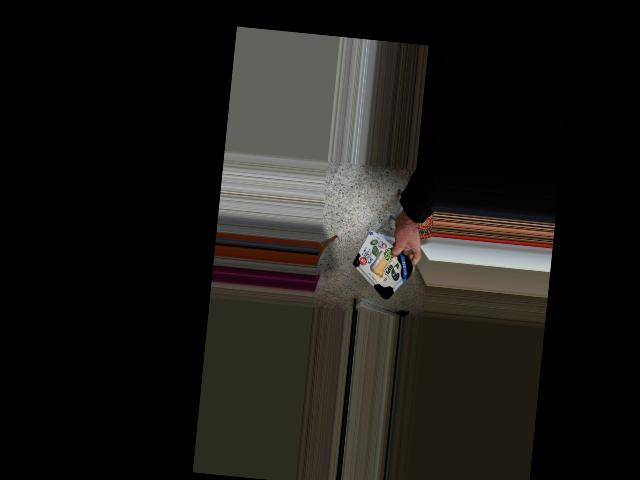cheese: (343, 233, 418, 300)
